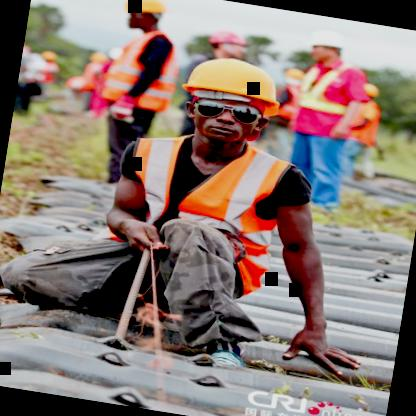helmet: (170, 45, 288, 158), (298, 22, 352, 72), (200, 22, 254, 62), (117, 0, 172, 34)
